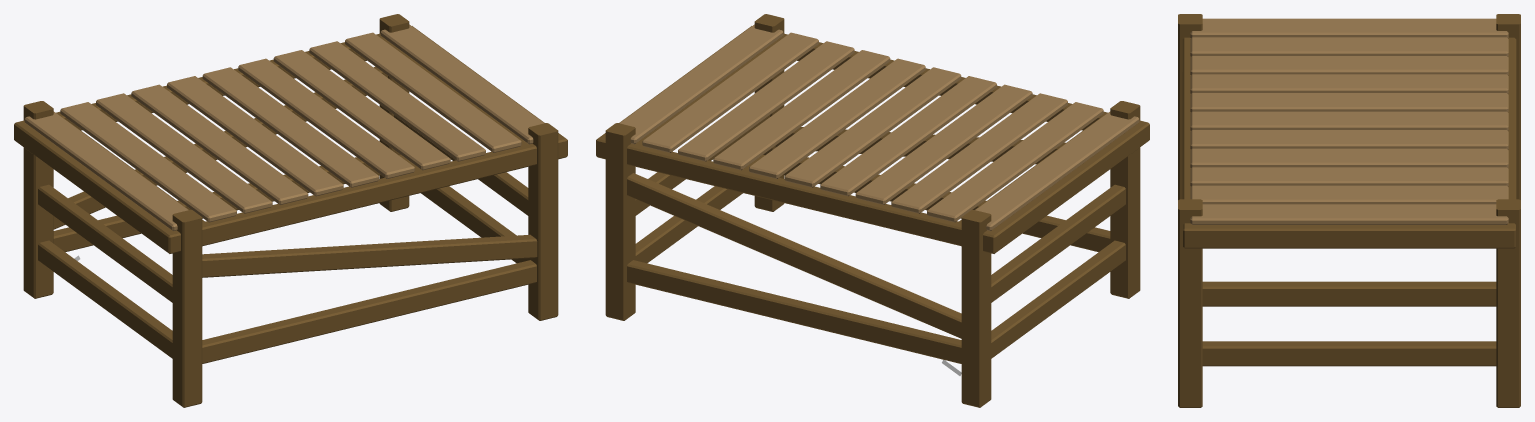
File: Scaffold_Small.fbx
The picture shows the model from 3 angles, left to right: view 1: azimuth 30°, elevation 25°; view 2: azimuth 150°, elevation 25°; view 3: azimuth 270°, elevation 25°; orthographic projection. The views are drawn at different scales.
Visible parts, largest first — view 1: polySurface942; view 2: polySurface942; view 3: polySurface942.
Part boxes in pixels (x1=…): polySurface942: x1=14, y1=14, x2=567, y2=407; polySurface942: x1=596, y1=14, x2=1149, y2=407; polySurface942: x1=1178, y1=14, x2=1520, y2=407.
Bounding box in the file's own units: 225 × 100 × 156.
